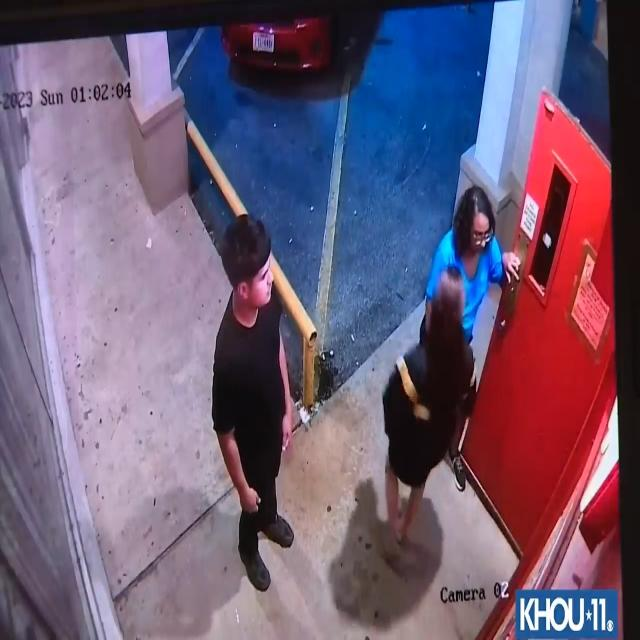Person: (206, 205, 312, 592), (373, 261, 463, 551), (436, 174, 519, 408)
